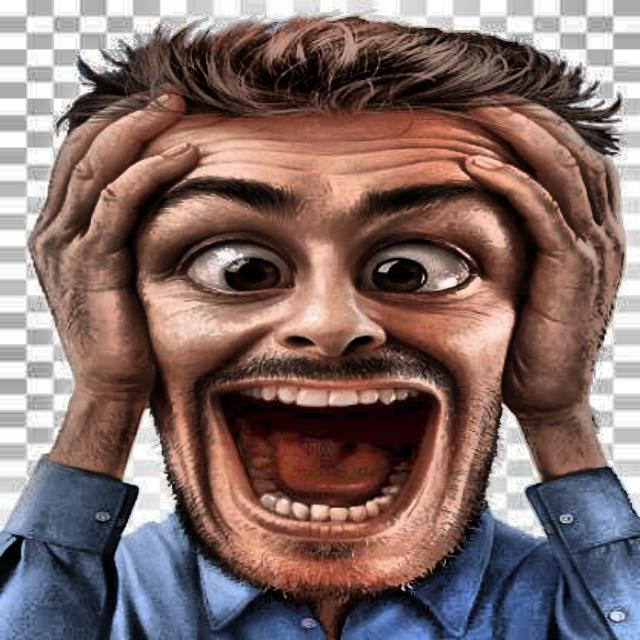surprised: (42, 23, 617, 601)
